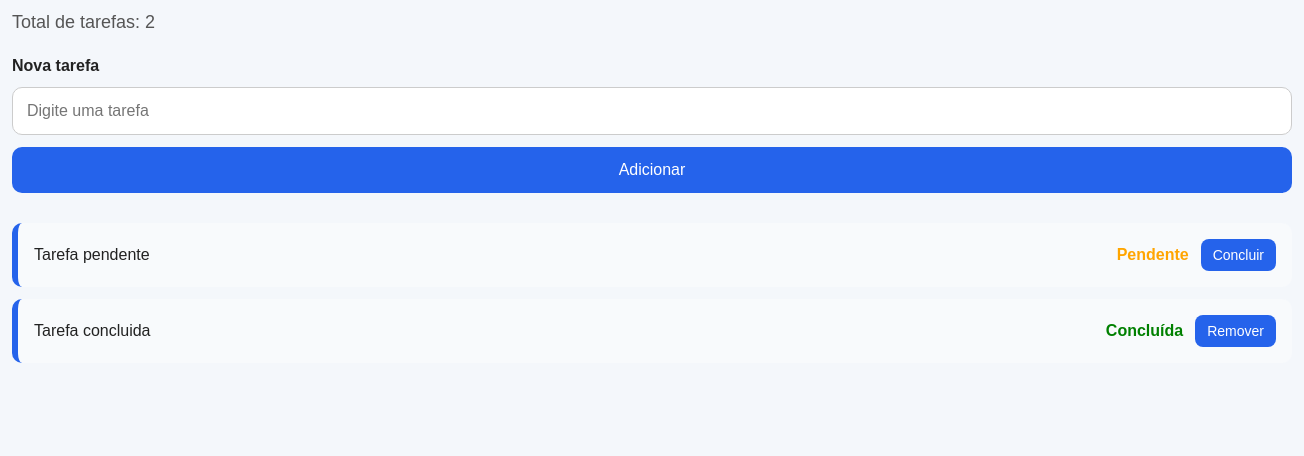
Test case: PainelTarefas › deve atualizar o total ao adicionar nova tarefa
Expected: the text "Total de tarefas: 2" is shown, [12,12,155,32]
Type "Nova tarefa criada" into the field labelled "Nova tarefa" at (652, 111), box [12,87,1292,135]
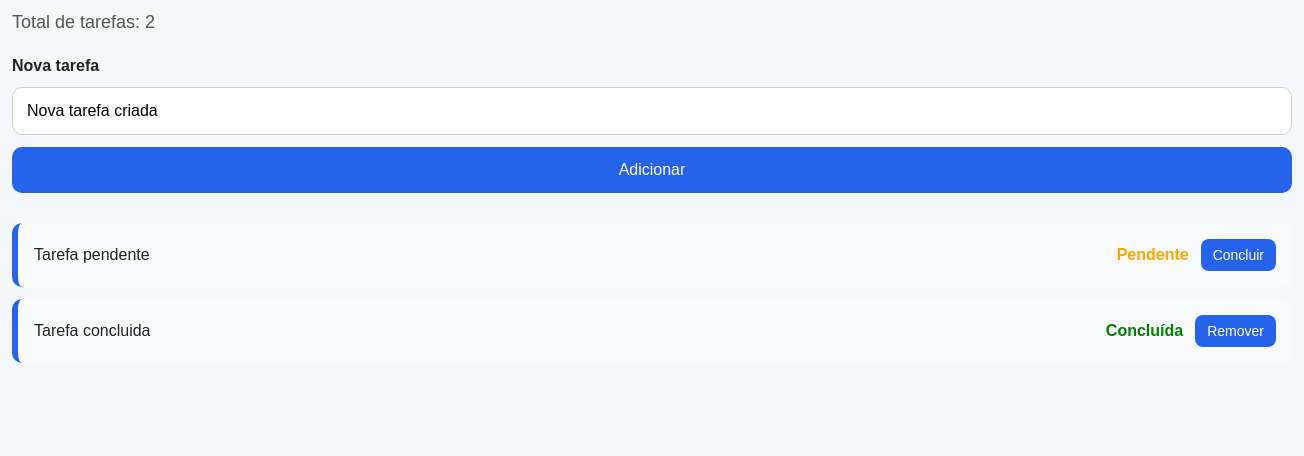
Click the button "Adicionar" at (652, 170), box [12,147,1292,193]
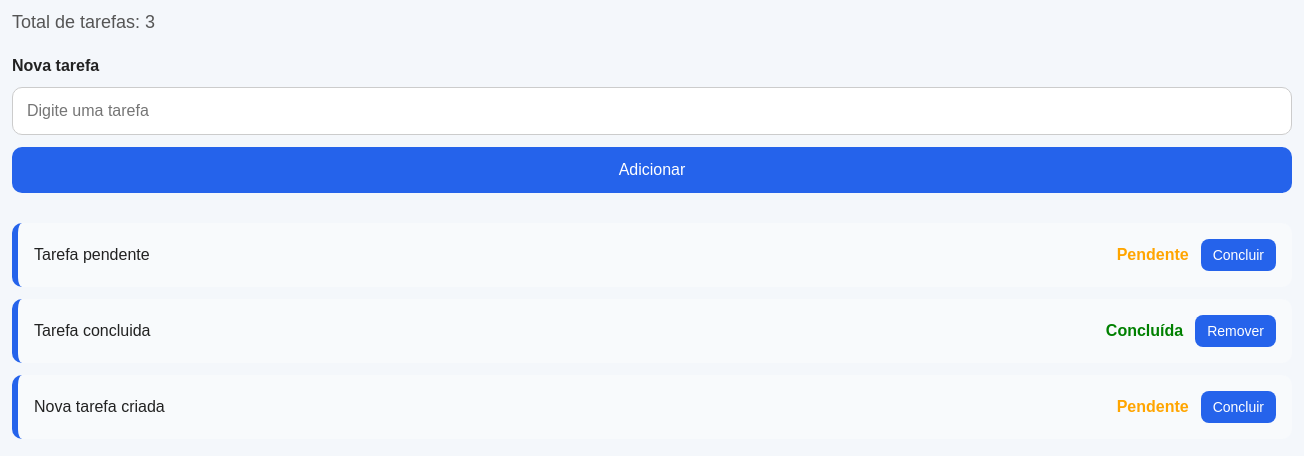
Result: the text "Total de tarefas: 3" is shown at [12,12,155,32]
Result: the text "Nova tarefa criada" is shown at [34,398,165,416]
